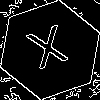X: (25, 25, 75, 79)
